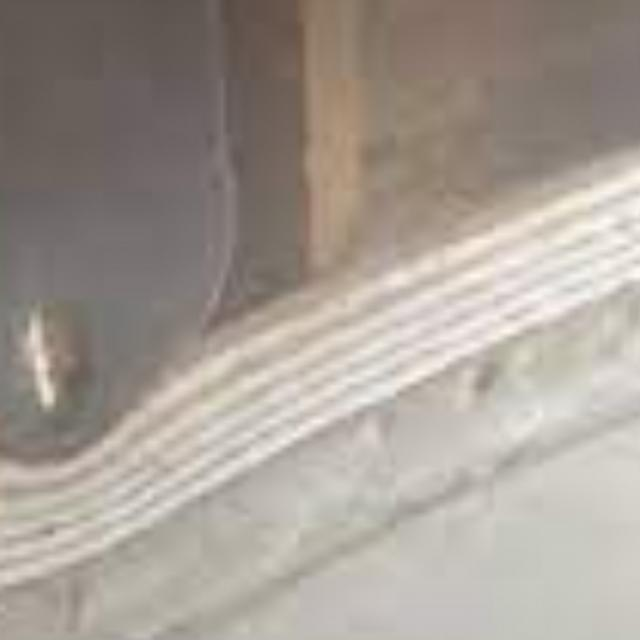dents: (19, 285, 103, 444), (344, 403, 412, 478), (452, 351, 503, 425), (590, 328, 630, 391)
